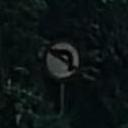NoVirarEsquerda: (46, 43, 81, 82)
